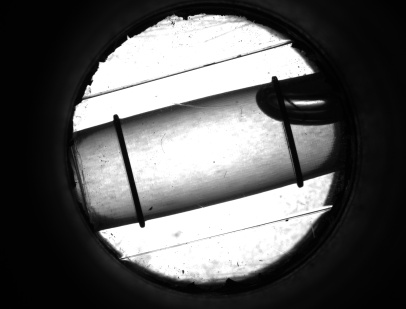line: (112, 136, 145, 209), (277, 131, 305, 168)
